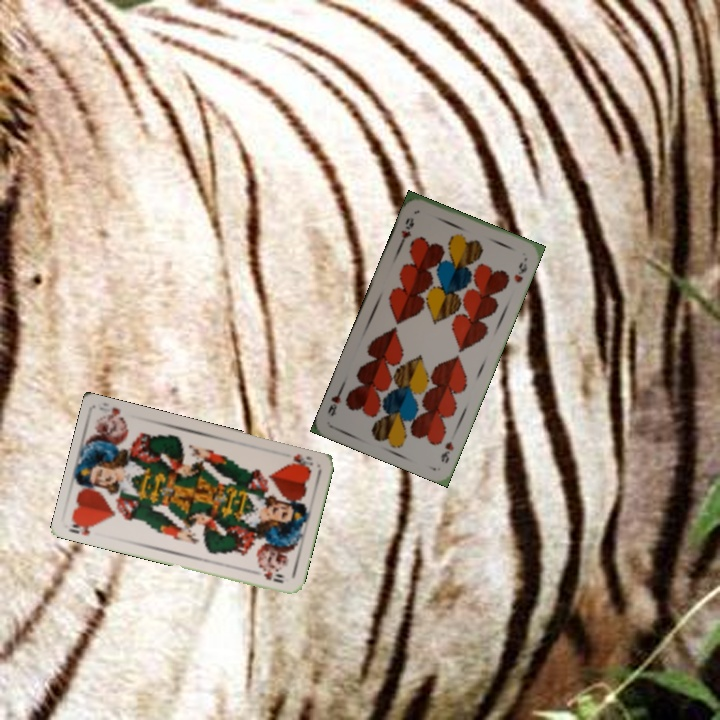H9: (396, 213, 417, 247), (437, 437, 456, 466)
HO: (65, 516, 100, 538), (287, 450, 316, 472)
